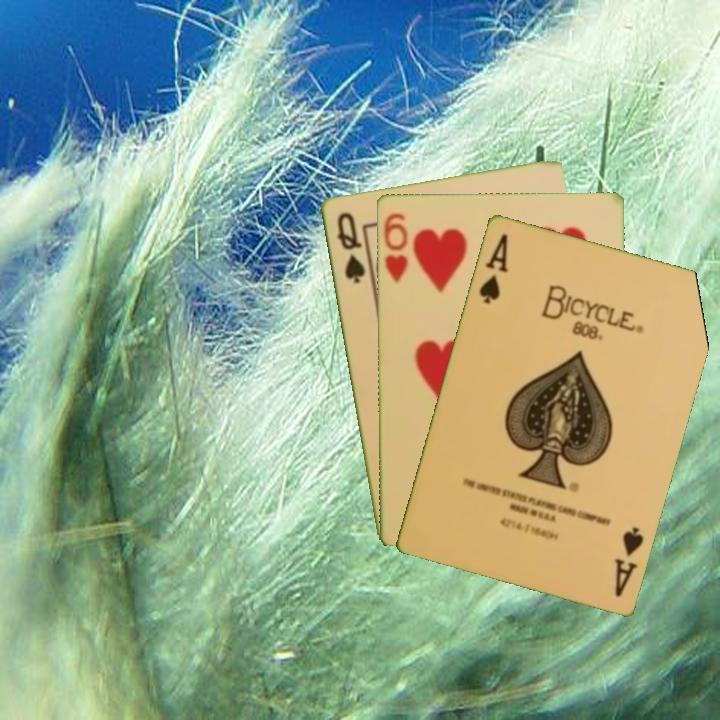6h: (380, 210, 410, 285)
As: (475, 229, 511, 306), (611, 522, 646, 599)
Qs: (333, 208, 368, 286)
